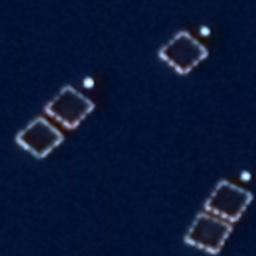square_solid: (42, 85, 96, 133), (13, 115, 67, 162), (157, 30, 209, 77), (183, 211, 235, 256), (203, 179, 252, 224)
